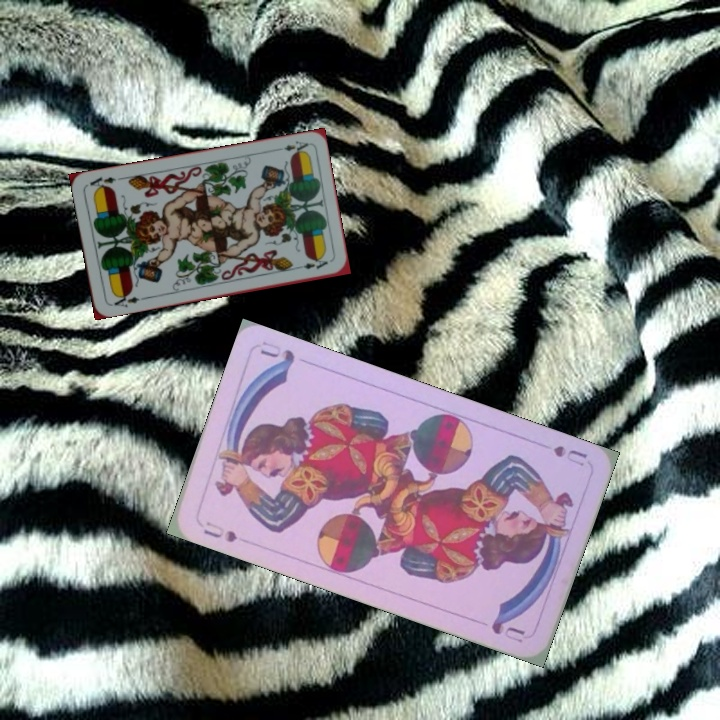EA: (271, 137, 311, 157), (110, 289, 142, 310)
SU: (549, 441, 590, 469), (199, 517, 240, 545)
